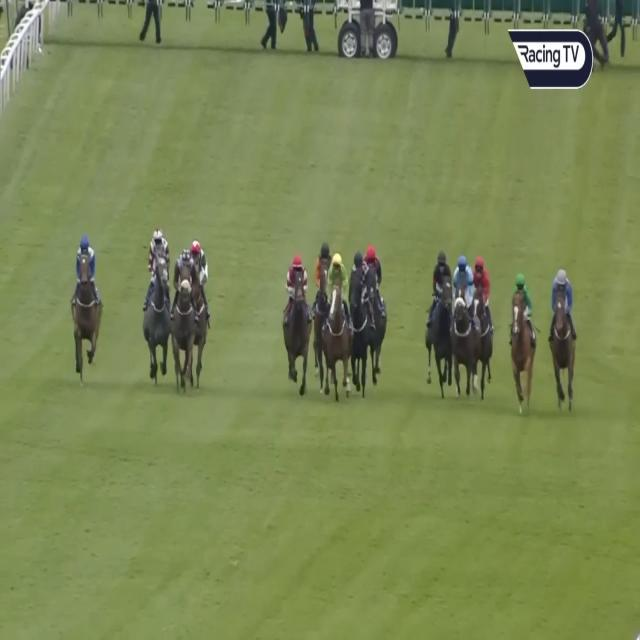horses-racing: (69, 235, 102, 369), (508, 276, 539, 414), (550, 265, 578, 412), (283, 252, 312, 387), (144, 225, 170, 374), (171, 246, 198, 386), (425, 249, 452, 387), (451, 255, 473, 396), (325, 254, 347, 390), (348, 250, 367, 392), (368, 245, 387, 368), (314, 240, 334, 350), (473, 252, 489, 378), (192, 235, 209, 342)
